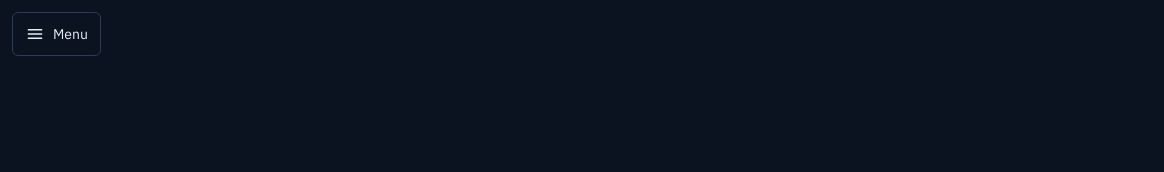
Scenario: HeaderMenu › closes on Escape and returns focus to the button
Click the button "Menu".
click(56, 34)  # box [12,12,101,56]
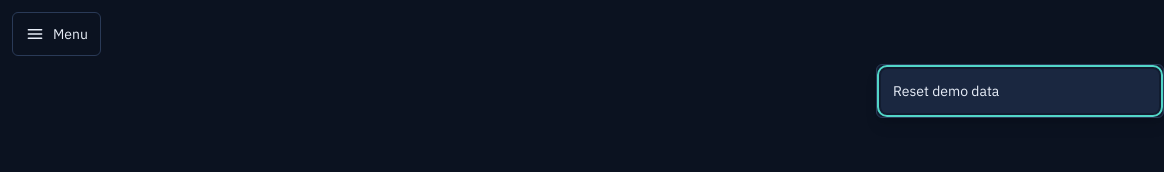
Press Escape
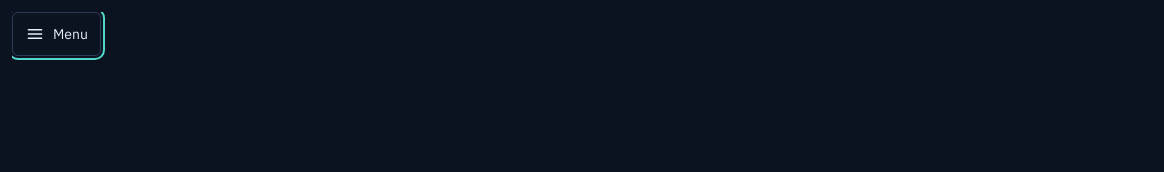
expect the menu is gone: met
